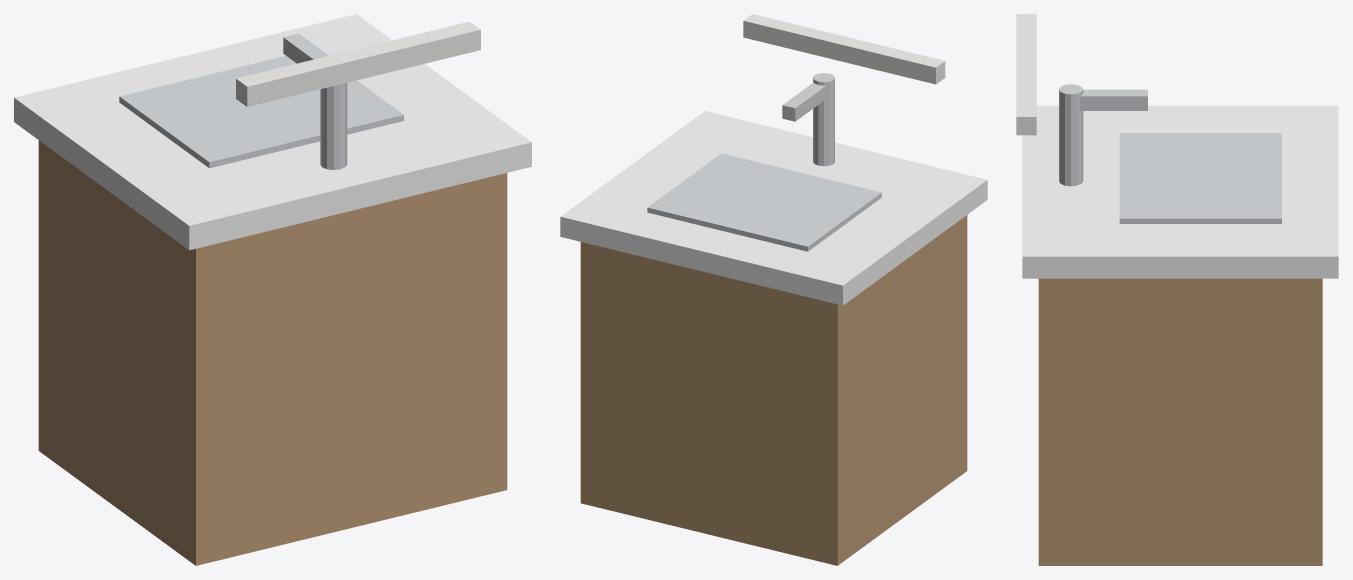
File: sink.glb
3 renders of one model, left to right at view 1: azimuth 30°, elevation 25°; view 2: azimuth 150°, elevation 25°; view 3: azimuth 270°, elevation 25°, orthographic. The views are drawn at different scales.
Visible parts, largest first — view 1: sink; view 2: sink; view 3: sink.
Boxes of the visible parts, bbox=[...] form: sink: bbox=[14, 14, 531, 565]; sink: bbox=[560, 14, 987, 565]; sink: bbox=[1016, 14, 1338, 565].
Bounding box in the file's own units: 0.88 × 1.17 × 0.795.
